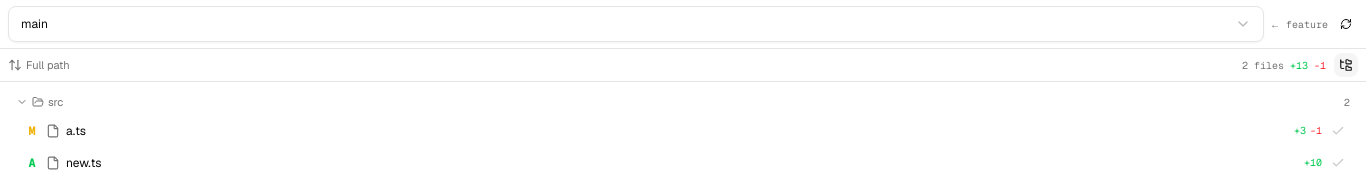
it: GitBranchComparePanel › groups by folder by default and toggles to a flat list
Expected: the button "src 2" is shown, [8,90,1358,114]
Click the button with test id "compare-group-toggle".
click(1346, 65)  # box [1334,53,1358,77]
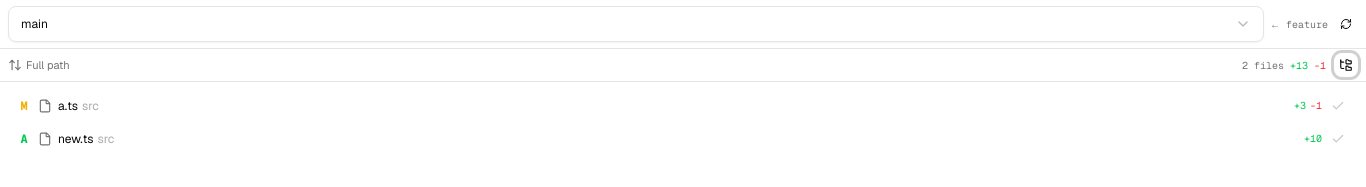
Now the text "src" is shown 2 times, box [82,98,99,114]; [98,131,114,147]
